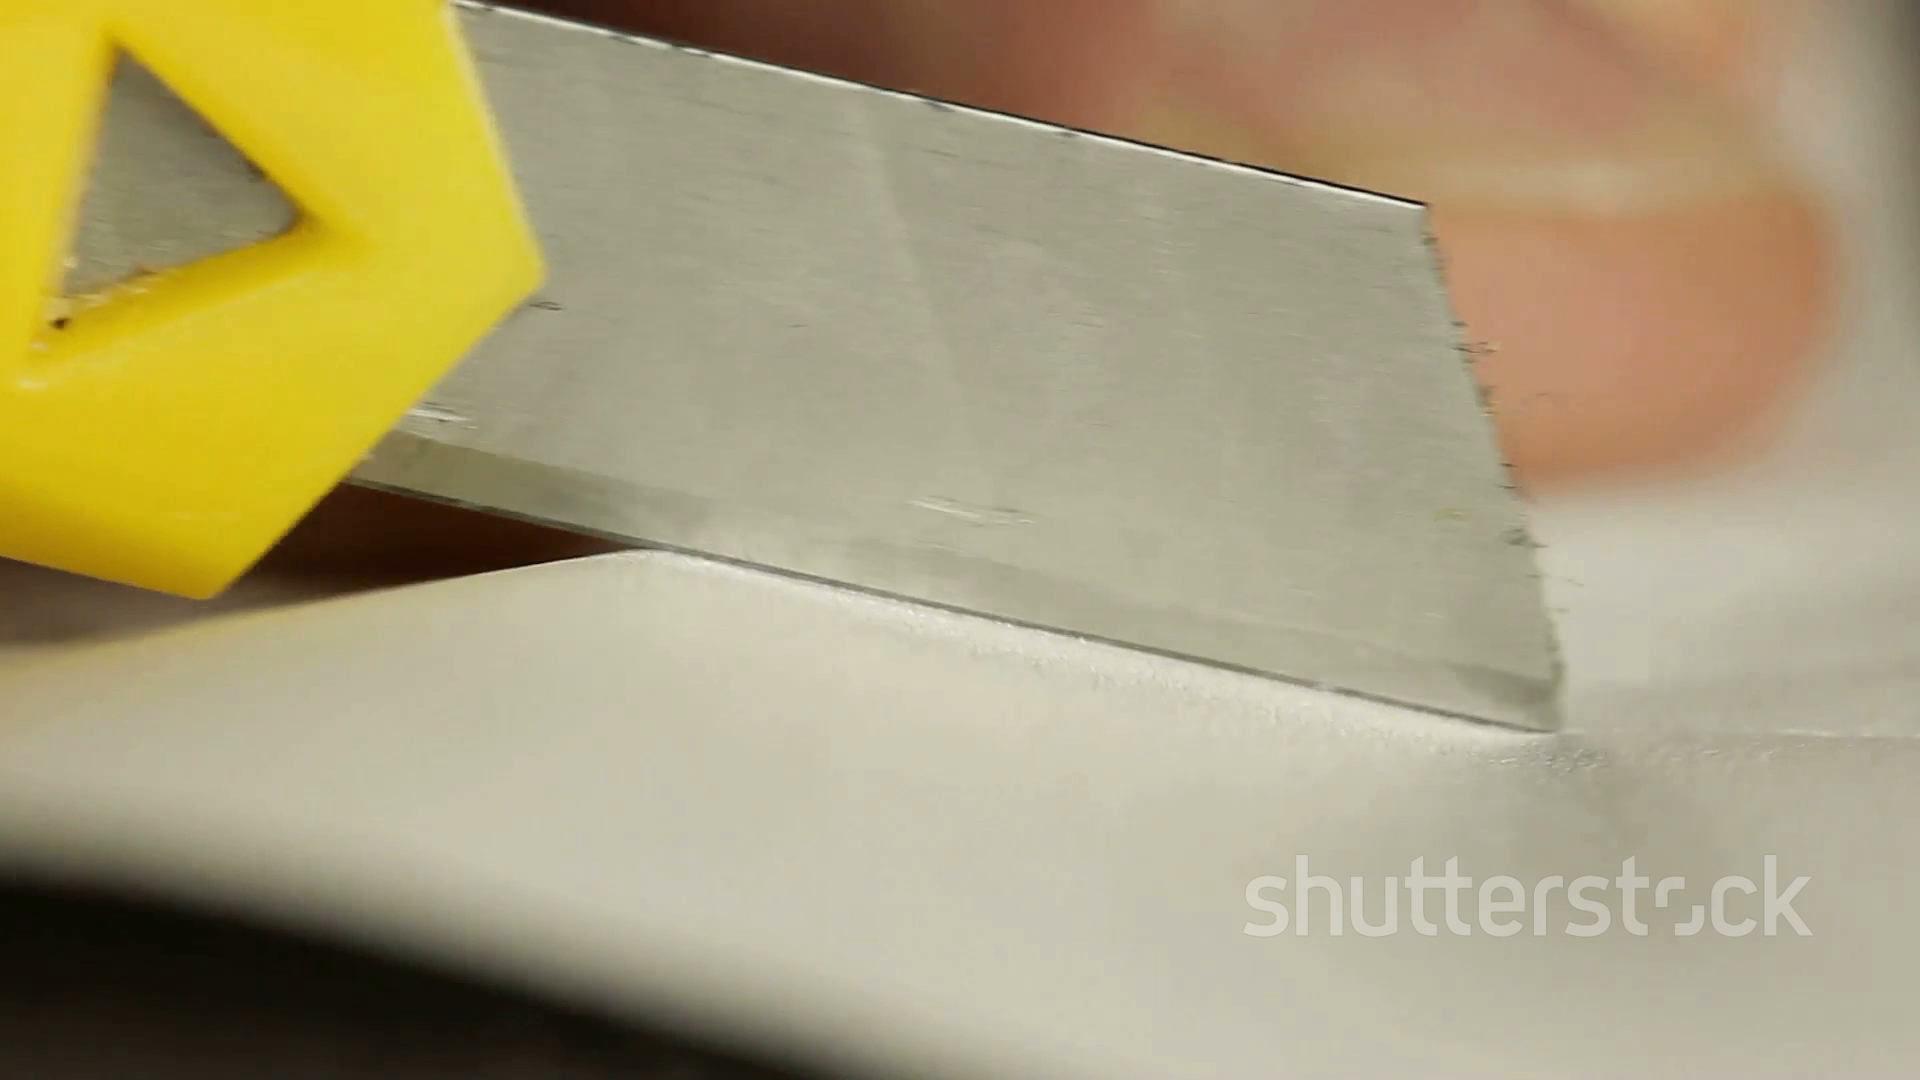cortante: (342, 0, 1563, 736)
